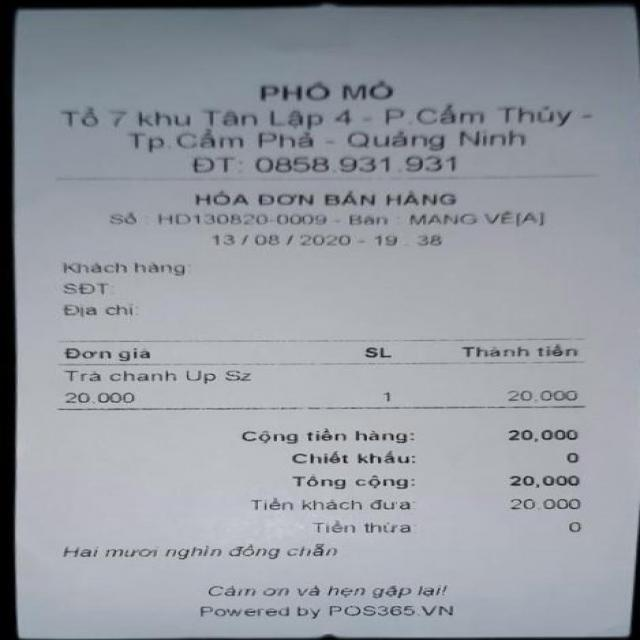Date: (215, 227, 352, 250)
Store_Name: (259, 74, 396, 108)
amount_number: (508, 470, 585, 491)
label_total: (293, 470, 411, 492)
